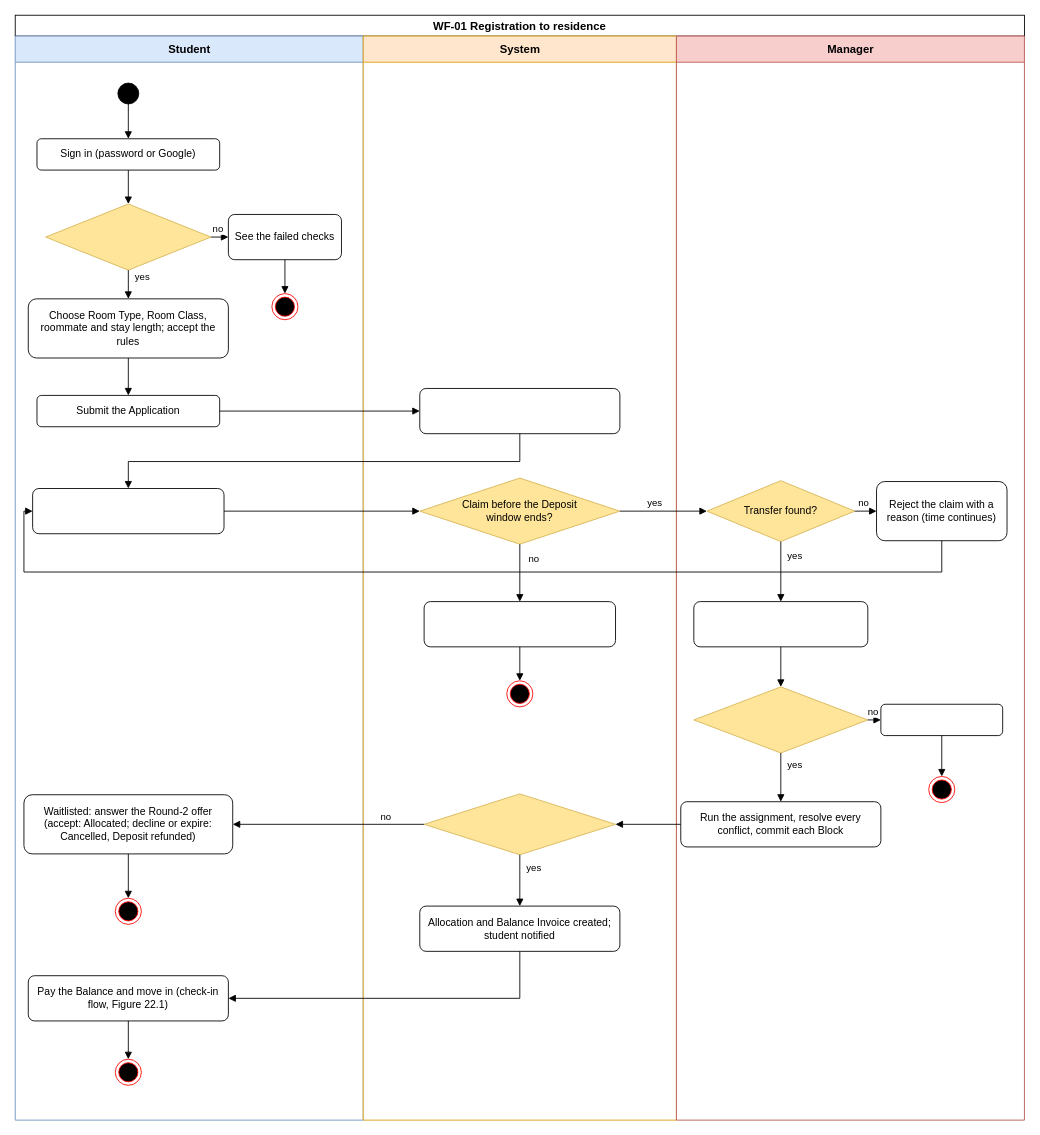
Some shapes in this 1040 by 1135 pixel diagram are drawn without their labels. The shapes that lost their labels are listed below. From the top down, each one's centre as x and y in pixels, then its label:
the point at 128,236: Eligible for the Term?
the point at 519,411: Application: Awaiting Deposit; Deposit Invoice issued
the point at 128,511: Transfer by VietQR and press 'I have transferred'
the point at 519,624: Application: Expired; Deposit Invoice Void
the point at 780,624: Confirm the claim: Application Submitted
the point at 780,719: Approve the Application?
the point at 941,719: Reject with a note
the point at 519,824: A matching Bed is free?
